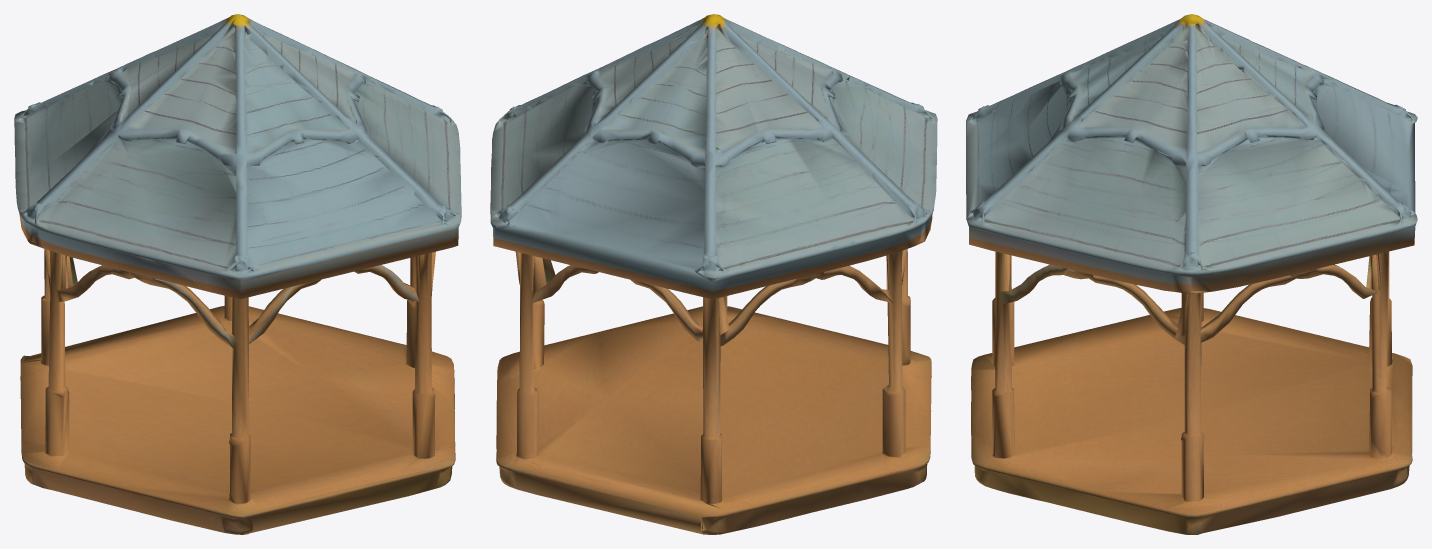
File: gazebo.glb
The picture shows the model from 3 angles, left to right: view 1: azimuth 30°, elevation 25°; view 2: azimuth 150°, elevation 25°; view 3: azimuth 270°, elevation 25°; orthographic projection.
Size of the model in its own units: 1.91 by 1.8 by 1.76.
Materials: 1 (1 with a texture image).
